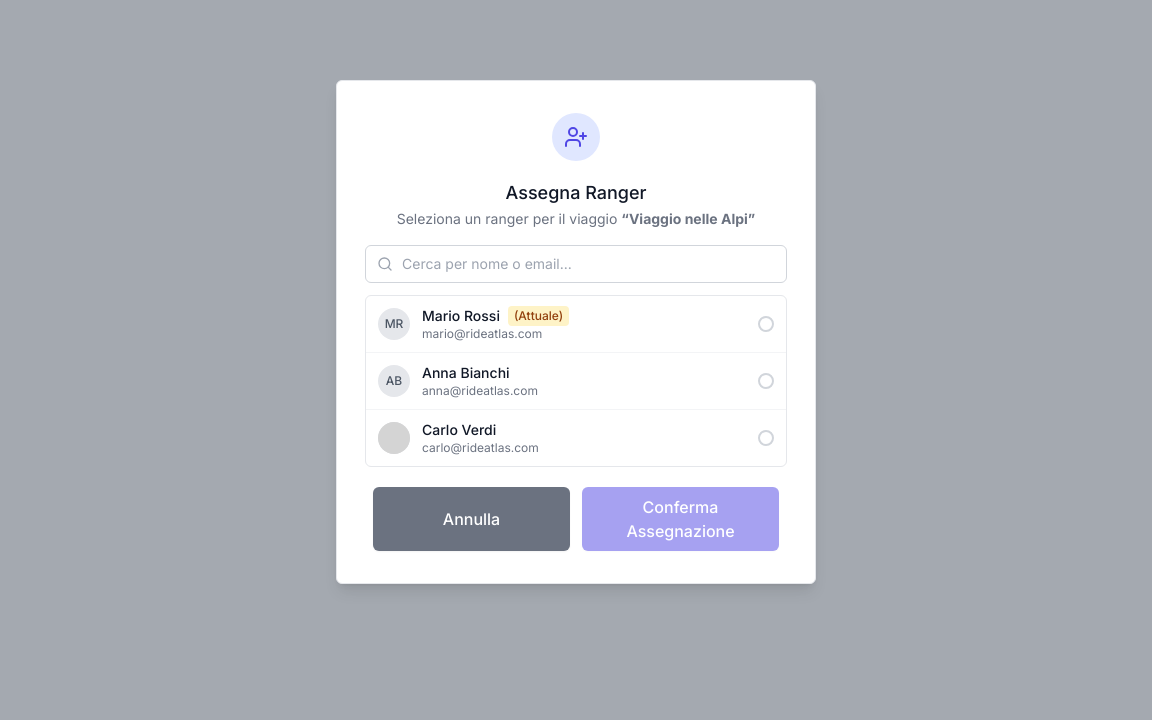
Test case: AssegnaRangerDialog - Componente dialogo assegnazione ranger › Gestione errori › Mostra errore se la chiamata API di assegnazione fallisce
Check: the text "Anna Bianchi" is shown, box top-left (422, 363), bottom-right (510, 383)
# Seleziona un nuovo ranger
Click the button "AB Anna Bianchi anna@rideatlas.com" at x=394, y=381, box top-left (366, 352), bottom-right (786, 409)
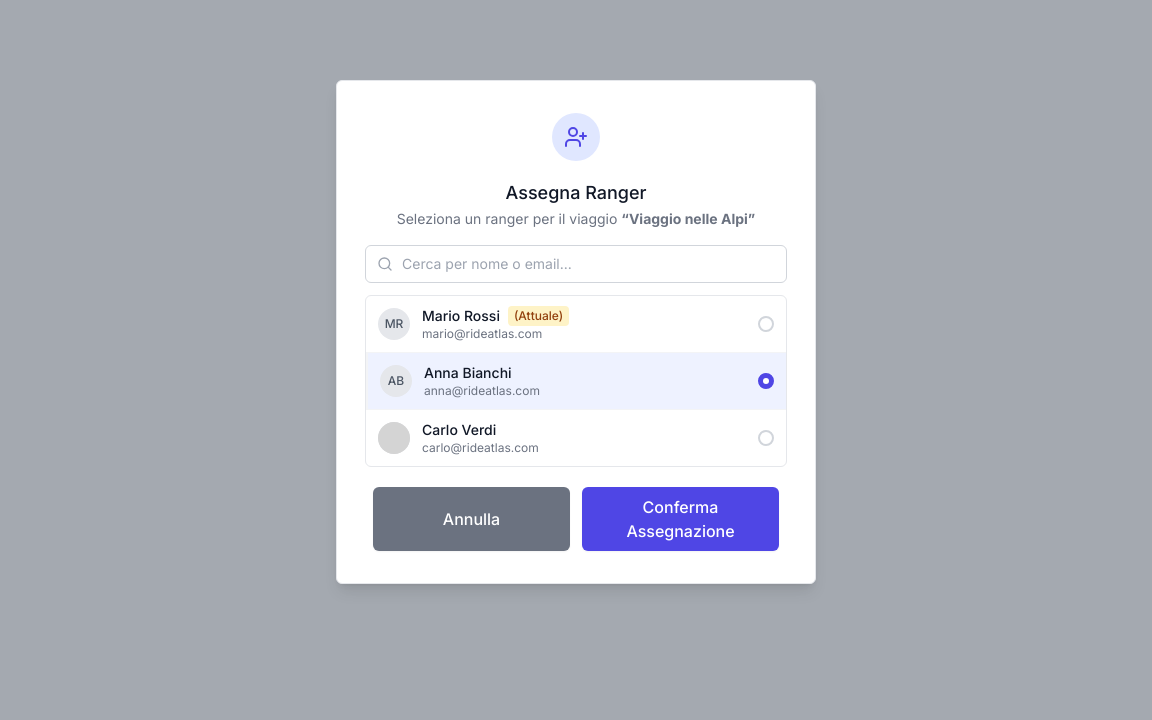
# Conferma l'assegnazione
Click the button "Conferma Assegnazione" at x=680, y=519, box top-left (582, 487), bottom-right (779, 551)
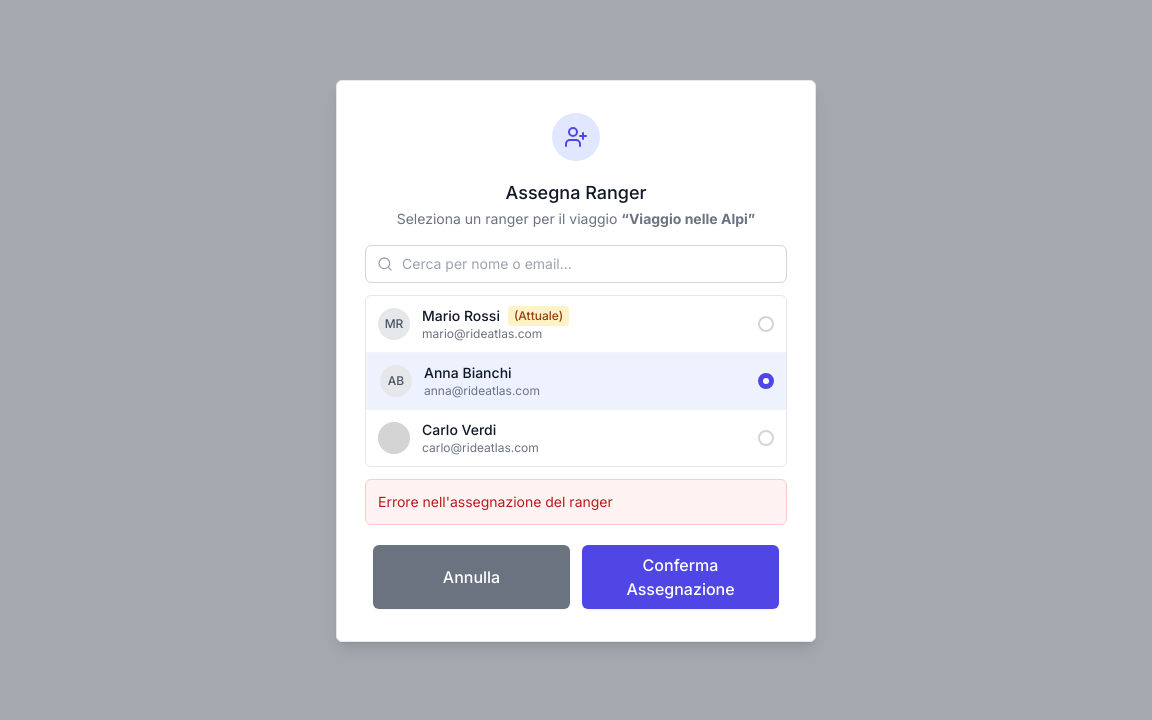
Check: the text "Errore nell'assegnazione del ranger" is shown, box top-left (378, 493), bottom-right (613, 510)
